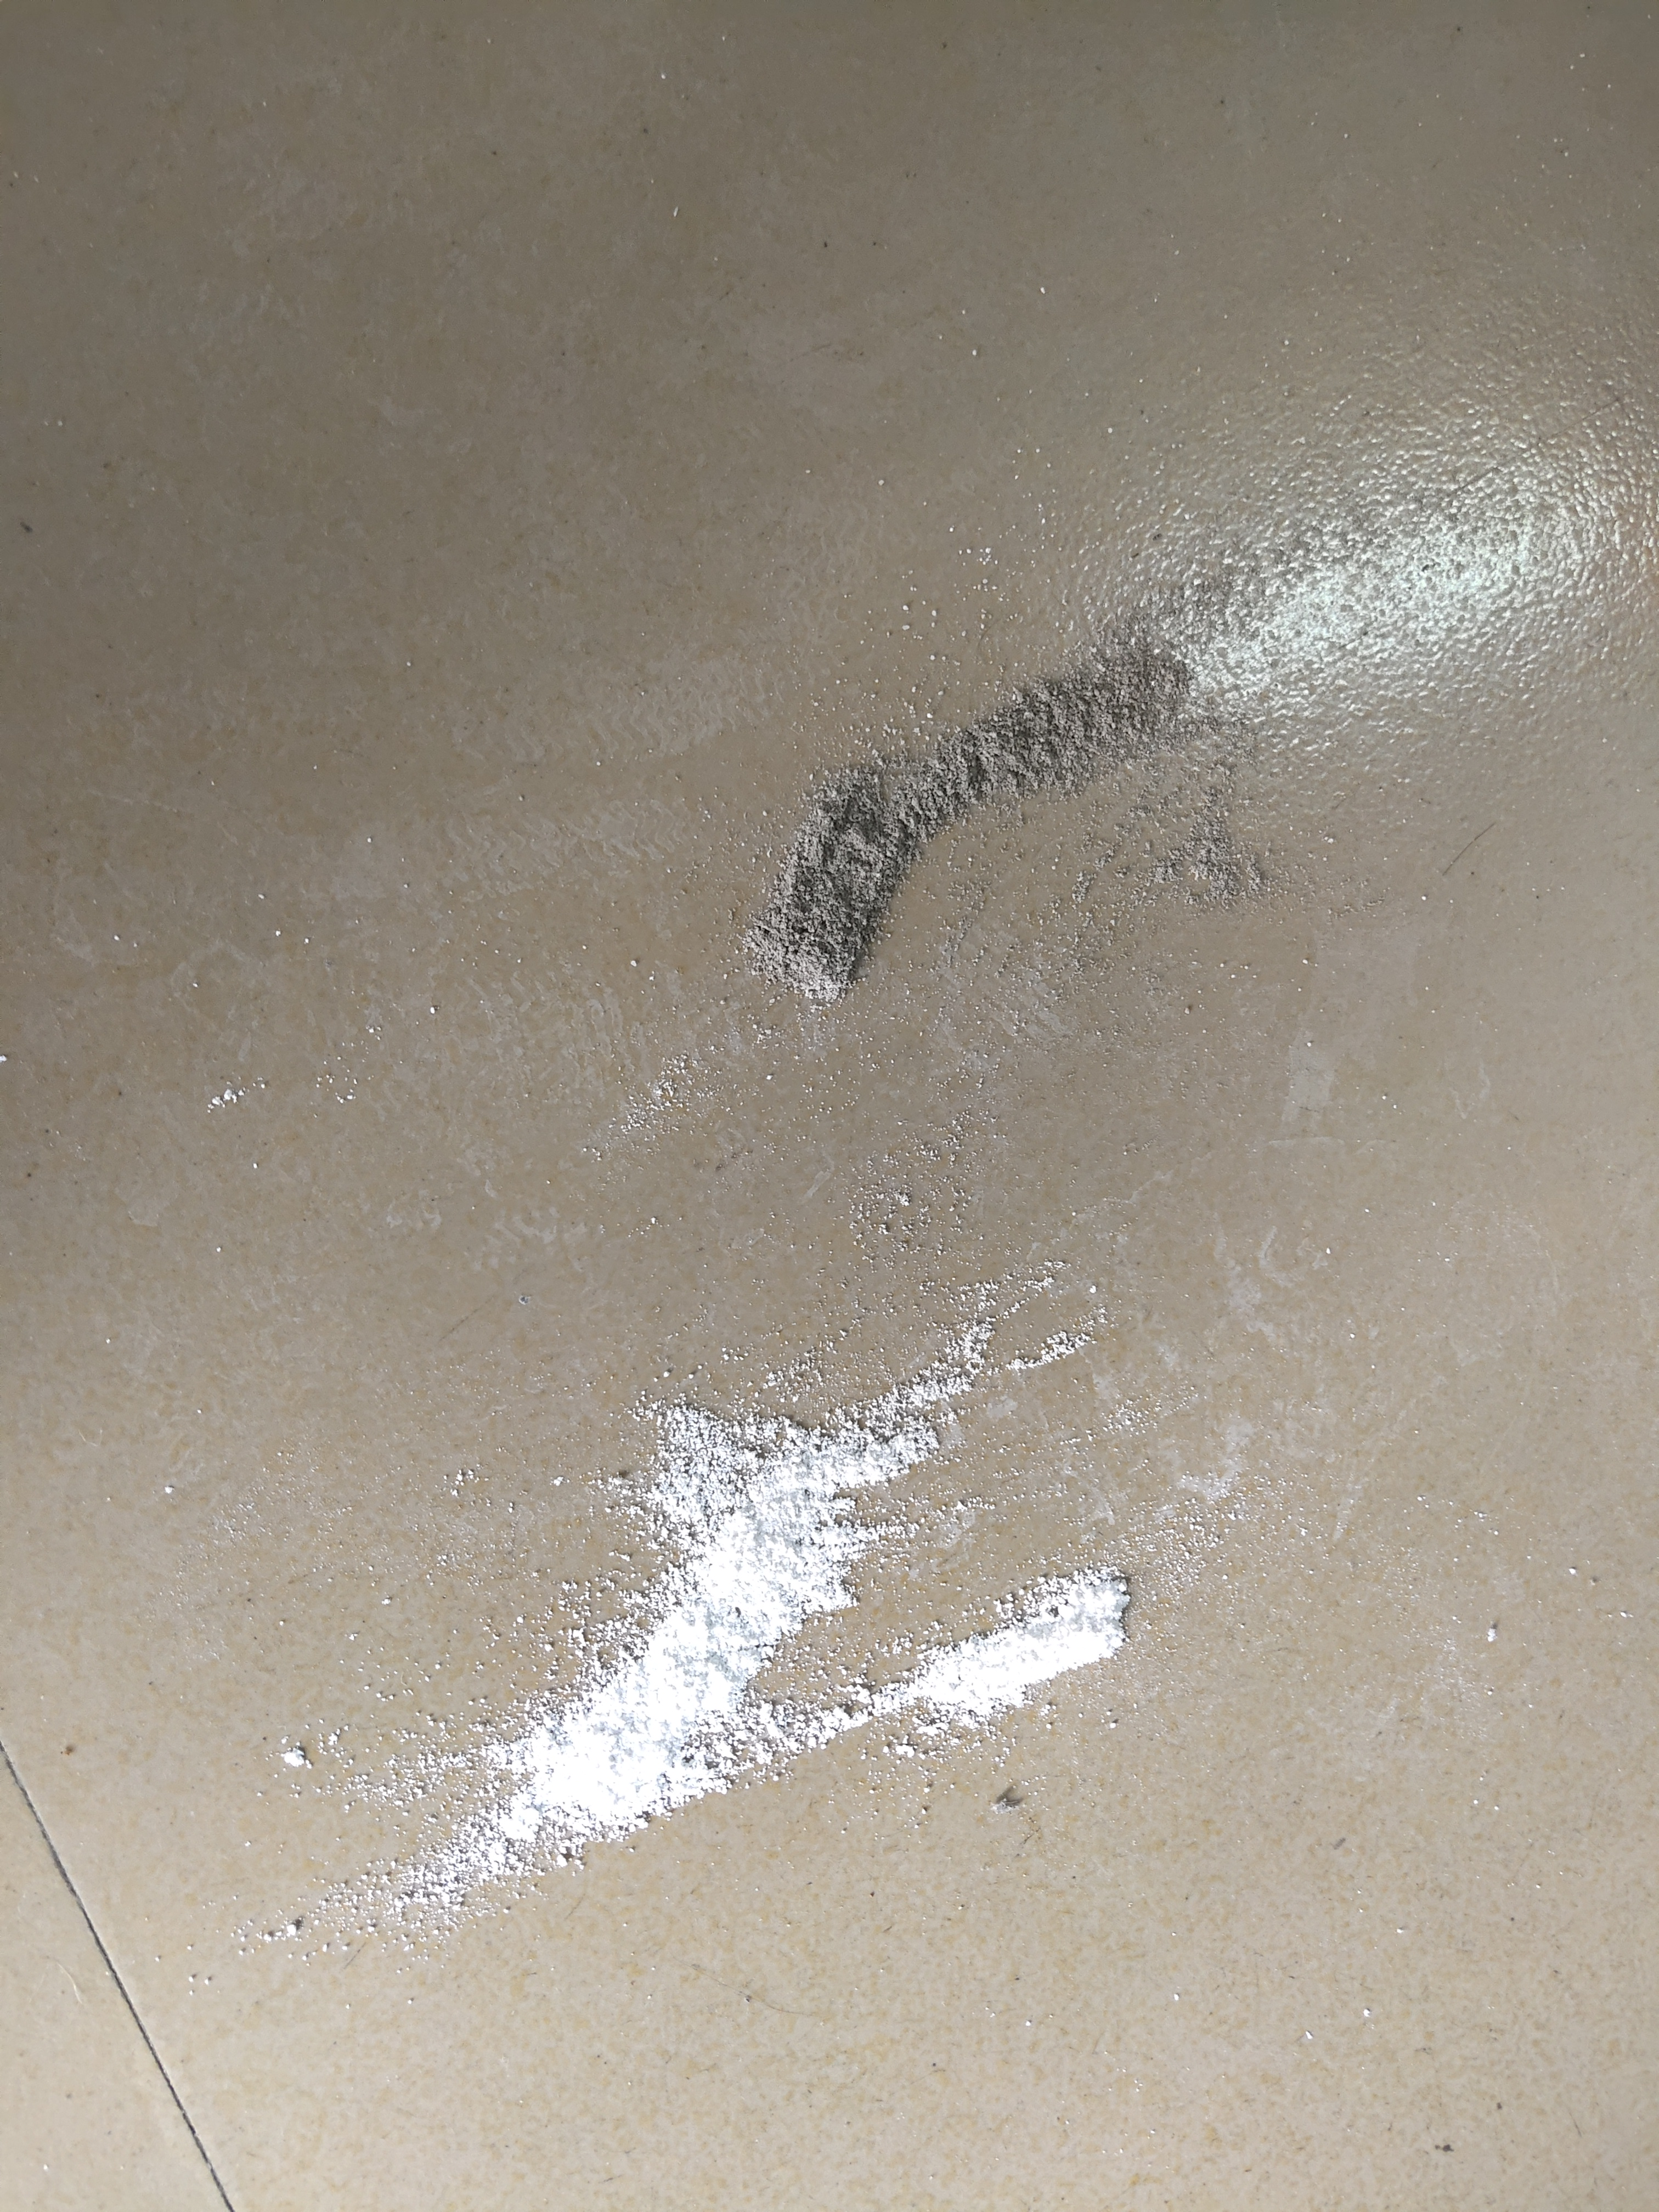ash pile: (282, 1261, 1133, 1940), (739, 646, 1265, 1003)
reflection: (1127, 432, 1659, 726)
